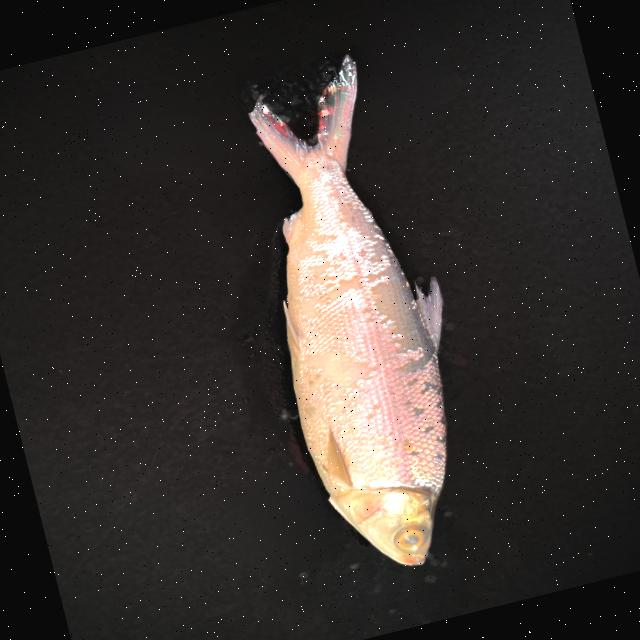750 g: (215, 46, 502, 584)
